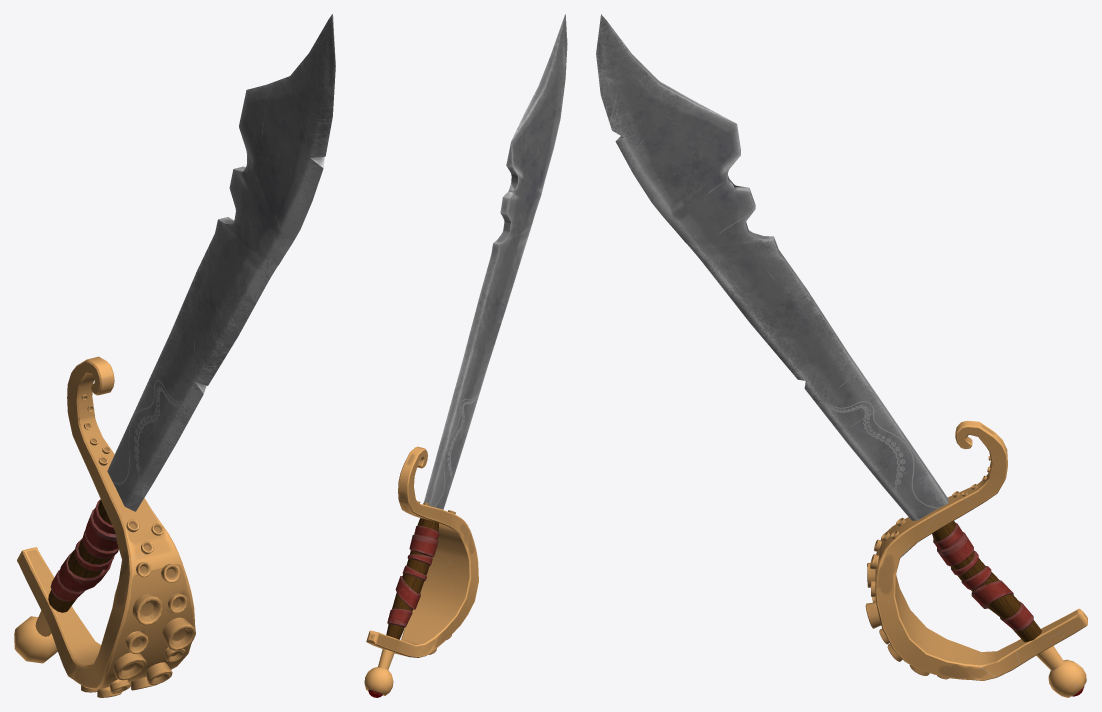
Rendered from octopus_cutlass.glb.
The picture shows the model from 3 angles, left to right: view 1: azimuth 30°, elevation 25°; view 2: azimuth 150°, elevation 25°; view 3: azimuth 270°, elevation 25°; orthographic projection. The views are drawn at different scales.
Visible parts, largest first — view 1: sucker_16_low8; view 2: sucker_16_low8; view 3: sucker_16_low8.
Part boxes in pixels (x1,y1,x2,y2): sucker_16_low8: [14, 14, 335, 697]; sucker_16_low8: [364, 14, 567, 697]; sucker_16_low8: [596, 14, 1087, 697].
Size of the model in its own units: 10.47 by 103 by 67.24.
1 material, 1 textured.
